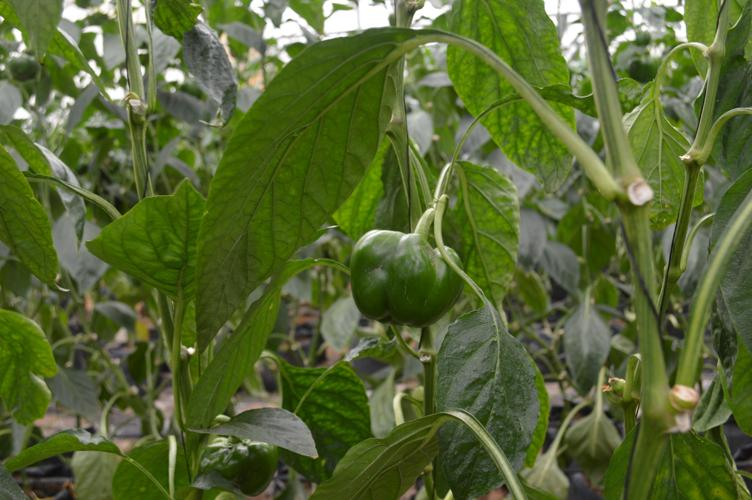BellPepper: (338, 223, 478, 325)
